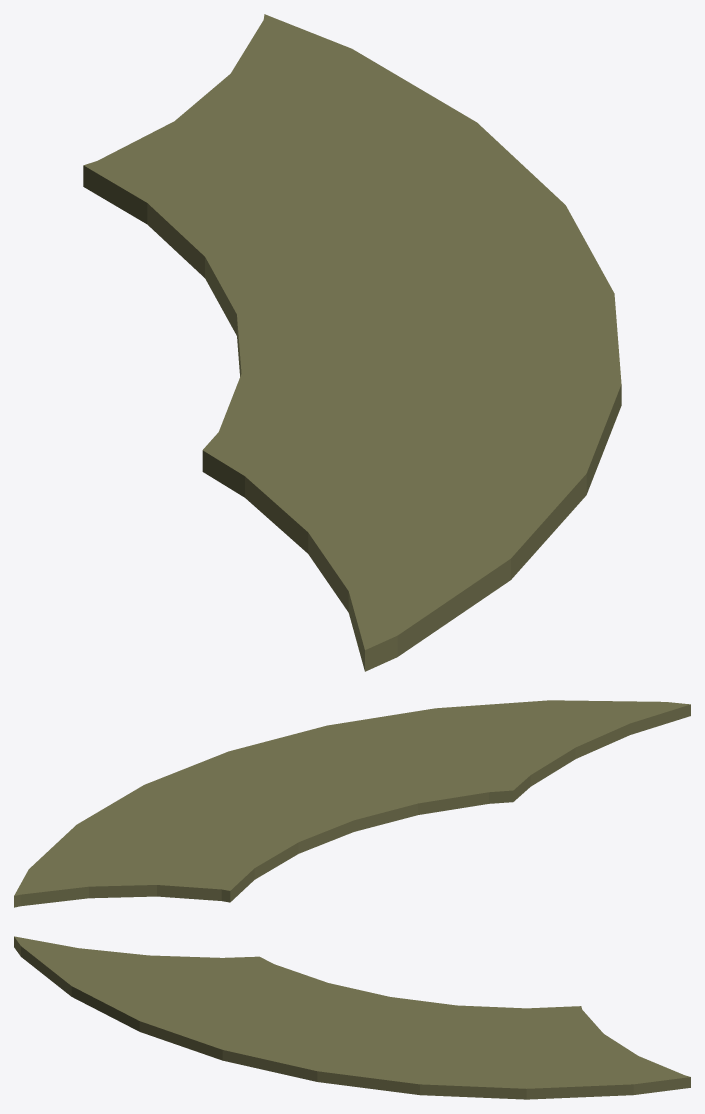
The model's file is Road5.dae.
The picture shows the model from 3 angles, top to bottom: view 1: azimuth 30°, elevation 25°; view 2: azimuth 150°, elevation 25°; view 3: azimuth 270°, elevation 25°; orthographic projection. The views are drawn at different scales.
Visible parts, largest first — view 1: Cylinder_001; view 2: Cylinder_001; view 3: Cylinder_001.
Boxes of the visible parts, left/top/right/bottom form: Cylinder_001: left=83, top=14, right=621, bottom=671; Cylinder_001: left=14, top=700, right=690, bottom=907; Cylinder_001: left=14, top=936, right=690, bottom=1099.
Size of the model in its own units: 7.58 by 14.22 by 0.25.
